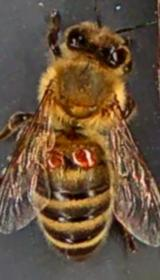varroa_mite: (69, 140, 101, 168), (46, 144, 66, 170)
